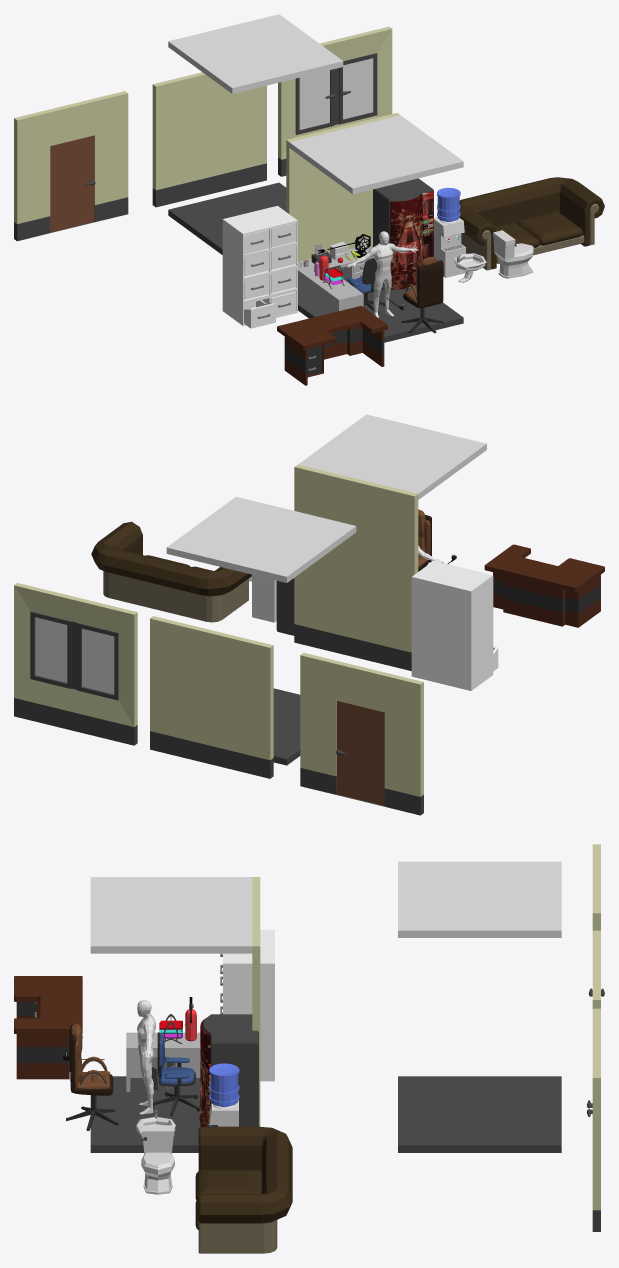
File: iştenthekovulma2.fbx
3 renders of one model, top to bottom at view 1: azimuth 30°, elevation 25°; view 2: azimuth 150°, elevation 25°; view 3: azimuth 270°, elevation 25°, orthographic. The views are drawn at different scales.
Parts seen in each view (by area): view 1: Wall.001, DoorWall, Vert.002, Cieling.001, Cieling, Wall, Vending Machine, Cube.016, FileCabinet, WindowWall, Door, Floor.001 (+13 smaller); view 2: Wall, Wall.001, DoorWall, WindowWall, FileCabinet, Cieling.001, Cieling, Vert.002, Cube.016, Door, Glass, WindowCase (+4 smaller); view 3: Floor.001, Cieling.001, Cieling, Vert.002, Cube.016, Floor, Vending Machine, FileCabinet, Cylinder, WindowWall, Desk, toilet_Cube.025 (+7 smaller).
Boxes of the visible parts, <box> form: Wall.001: <box>152,72,266,207</box>; DoorWall: <box>14,91,128,241</box>; Vert.002: <box>459,177,604,270</box>; Cieling.001: <box>168,14,343,93</box>; Cieling: <box>288,115,463,194</box>; Wall: <box>286,113,399,261</box>; Vending Machine: <box>373,178,433,289</box>; Cube.016: <box>277,306,387,385</box>; FileCabinet: <box>222,206,297,325</box>; WindowWall: <box>278,26,392,176</box>; Door: <box>50,135,94,232</box>; Floor.001: <box>168,182,286,254</box>; Wall: <box>294,464,418,670</box>; Wall.001: <box>150,616,273,778</box>; DoorWall: <box>300,652,423,815</box>; WindowWall: <box>14,583,137,745</box>; FileCabinet: <box>411,561,493,690</box>; Cieling.001: <box>166,496,356,582</box>; Cieling: <box>298,414,486,499</box>; Vert.002: <box>91,521,251,622</box>; Cube.016: <box>484,544,604,627</box>; Door: <box>336,701,384,805</box>; Glass: <box>35,617,114,694</box>; WindowCase: <box>30,611,118,700</box>; Floor.001: <box>398,1076,561,1152</box>; Cieling.001: <box>398,861,561,937</box>; Cieling: <box>90,877,252,953</box>; Vert.002: <box>195,1126,292,1253</box>; Cube.016: <box>14,976,82,1079</box>; Floor: <box>90,1076,201,1152</box>; Vending Machine: <box>199,1014,258,1126</box>; FileCabinet: <box>223,929,274,1081</box>; Cylinder: <box>66,1023,118,1130</box>; WindowWall: <box>592,1008,600,1231</box>; Desk: <box>126,1032,200,1091</box>; toilet_Cube.025: <box>141,1125,174,1194</box>.
Size of the model in its own units: 1065 by 411 by 985.
78 materials, 2 textured.
